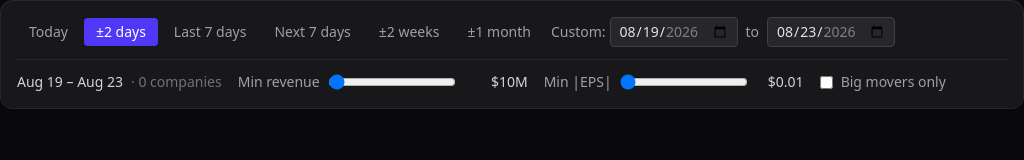
an inverted custom range does not update the URL params
Type "2026-08-20" into the date field named "Custom start date" at (674, 32), box [610, 17, 738, 47]
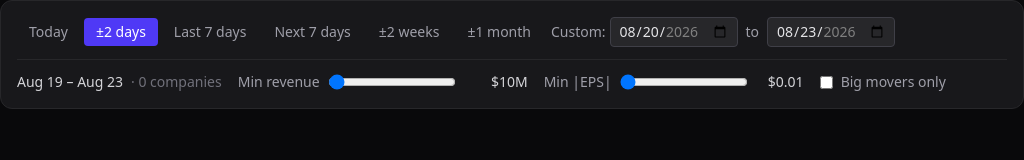
Type "2026-08-10" into the date field named "Custom end date" at (831, 32), box [767, 17, 895, 47]
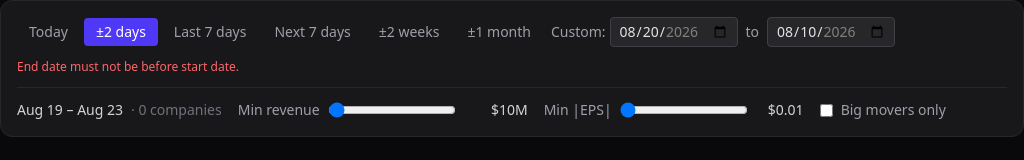
Check: the text "End date must not be before start date." is shown, box [17, 58, 239, 75]
